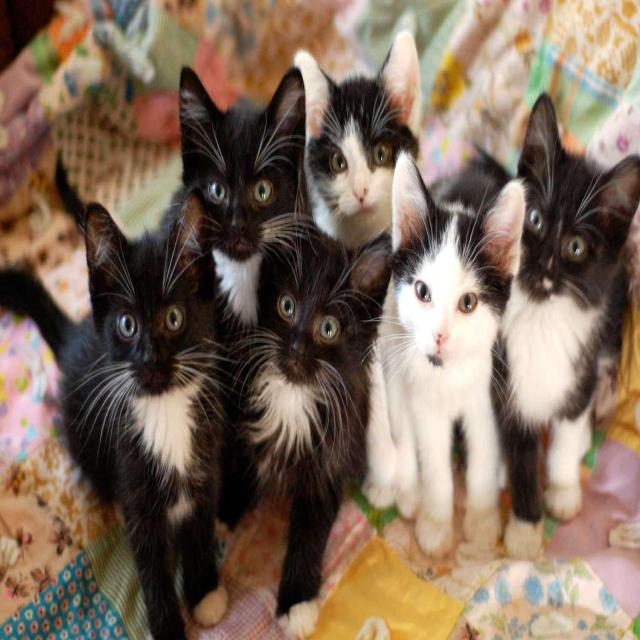Cat: (76, 188, 224, 422), (390, 146, 521, 377), (520, 80, 640, 327), (174, 54, 300, 272), (250, 224, 390, 399), (301, 78, 425, 234)
